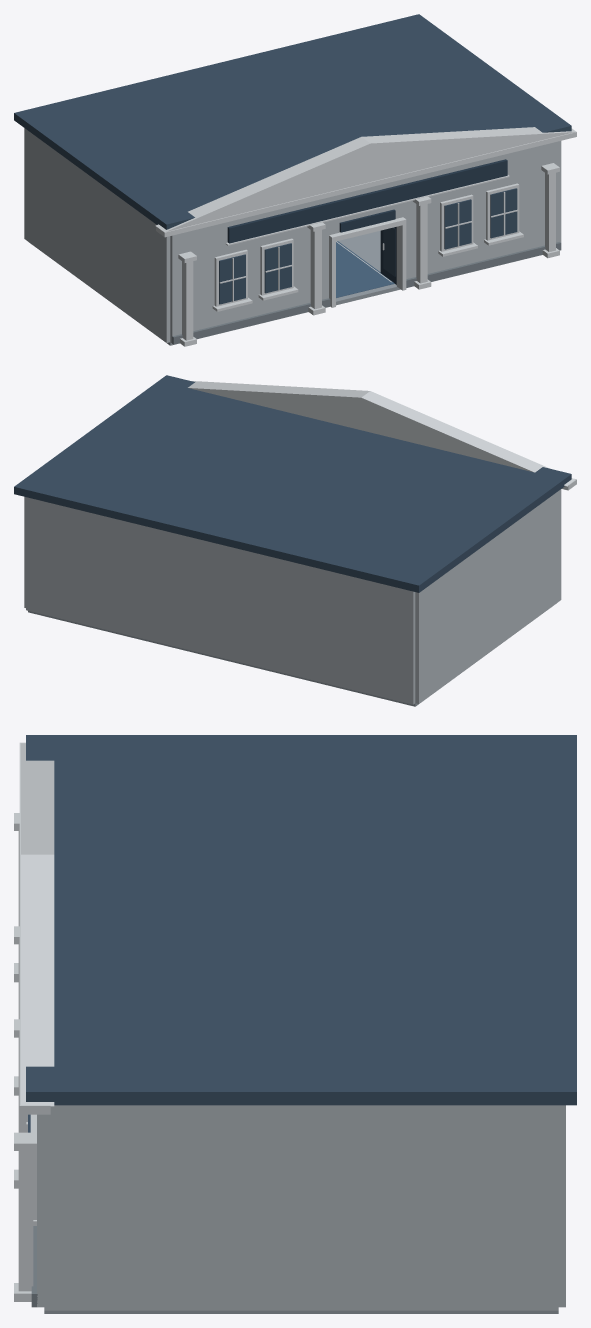
File: biblioteca_completa.glb
3 renders of one model, top to bottom at view 1: azimuth 30°, elevation 25°; view 2: azimuth 150°, elevation 25°; view 3: azimuth 270°, elevation 25°, orthographic. The views are drawn at different scales.
Parts seen in each view (by area): view 1: Cobertura, ParedeEsquerda, Frontao, FrenteEsquerda, FrenteDireita, Placa, Cornija, TapeteRecepcao, Piso, RodapeE, RodapeD, _MeshInstance3D_466 (+18 smaller); view 2: Cobertura, ParedeFundo, ParedeEsquerda, Frontao, Piso; view 3: Cobertura, ParedeDireita, Frontao, _MeshInstance3D_438, Piso, ParedeFundo, FrenteDireita, Cornija.
Part boxes in pixels (left/top/right/bottom): Cobertura: left=14, top=14, right=571, bottom=229; ParedeEsquerda: left=24, top=128, right=170, bottom=342; Frontao: left=155, top=127, right=574, bottom=231; FrenteEsquerda: left=170, top=197, right=330, bottom=343; FrenteDireita: left=401, top=141, right=559, bottom=278; Placa: left=227, top=159, right=507, bottom=243; Cornija: left=156, top=128, right=576, bottom=237; TapeteRecepcao: left=336, top=241, right=394, bottom=297; Piso: left=30, top=230, right=542, bottom=345; RodapeE: left=172, top=298, right=330, bottom=344; RodapeD: left=406, top=242, right=561, bottom=287; _MeshInstance3D_466: left=444, top=199, right=471, bottom=249; Cobertura: left=14, top=375, right=571, bottom=592; ParedeFundo: left=26, top=497, right=415, bottom=704; ParedeEsquerda: left=415, top=489, right=561, bottom=703; Frontao: left=188, top=381, right=574, bottom=486; Piso: left=28, top=603, right=556, bottom=706; Cobertura: left=26, top=735, right=576, bottom=1105; ParedeDireita: left=44, top=1105, right=558, bottom=1310; Frontao: left=21, top=743, right=54, bottom=1106; _MeshInstance3D_438: left=18, top=1151, right=33, bottom=1291; Piso: left=44, top=1310, right=558, bottom=1313; ParedeFundo: left=558, top=1105, right=565, bottom=1307; FrenteDireita: left=37, top=1114, right=44, bottom=1307; Cornija: left=19, top=742, right=50, bottom=1114.
Bounding box in the file's own units: 23.4 × 8.66 × 15.32.
